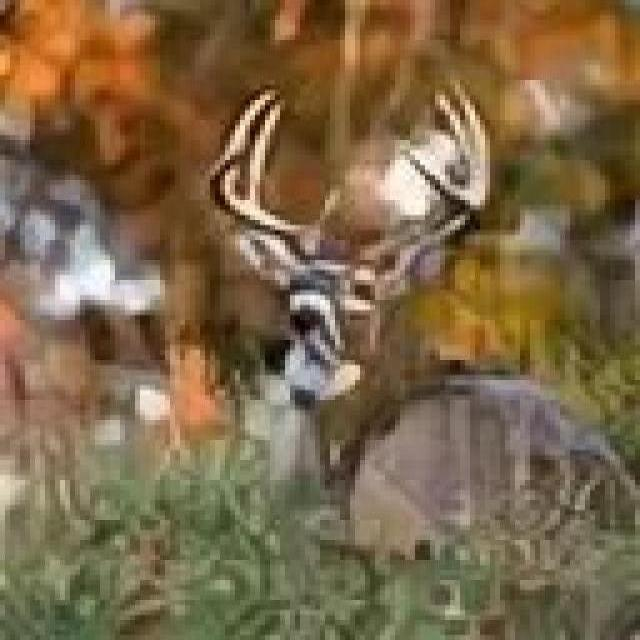deer: (214, 209, 634, 639)
